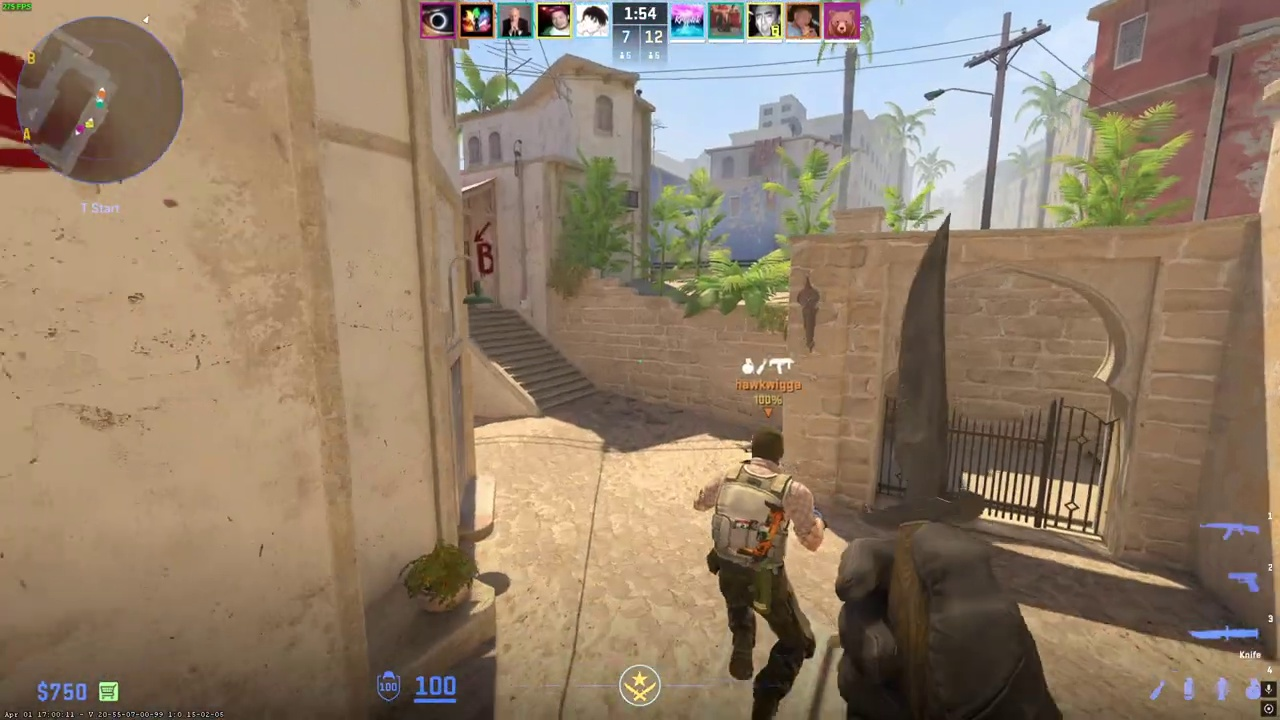Terrorist: (702, 426, 826, 720)
